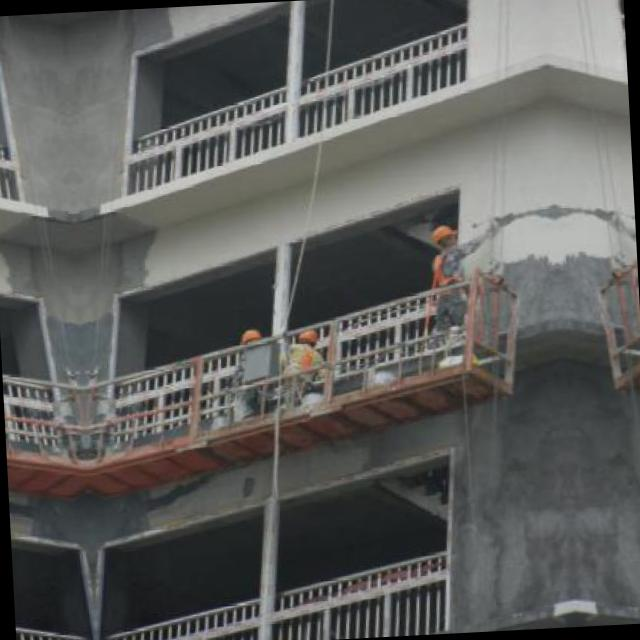helmet: (285, 323, 326, 353), (230, 322, 267, 353), (429, 222, 462, 251)
